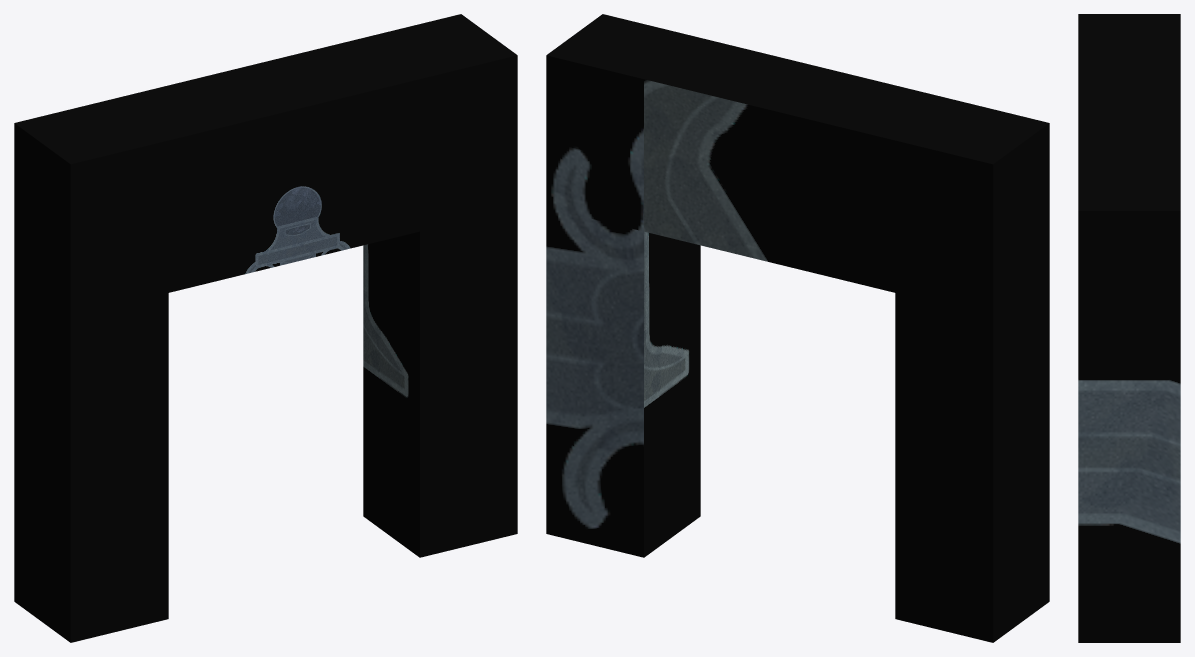
Rendered from Mesh_Arch.fbx.
3 views of the same model, side by side, from view 1: azimuth 30°, elevation 25°; view 2: azimuth 150°, elevation 25°; view 3: azimuth 270°, elevation 25° (orthographic). The views are drawn at different scales.
Parts seen in each view (by area): view 1: Mesh_Arch; view 2: Mesh_Arch; view 3: Mesh_Arch.
Part boxes in pixels (left/top/right/bottom): Mesh_Arch: left=14, top=14, right=517, bottom=642; Mesh_Arch: left=546, top=14, right=1049, bottom=642; Mesh_Arch: left=1078, top=14, right=1180, bottom=642.
Bounding box in the file's own units: 203 × 208 × 44.43.
1 material, 1 textured.
